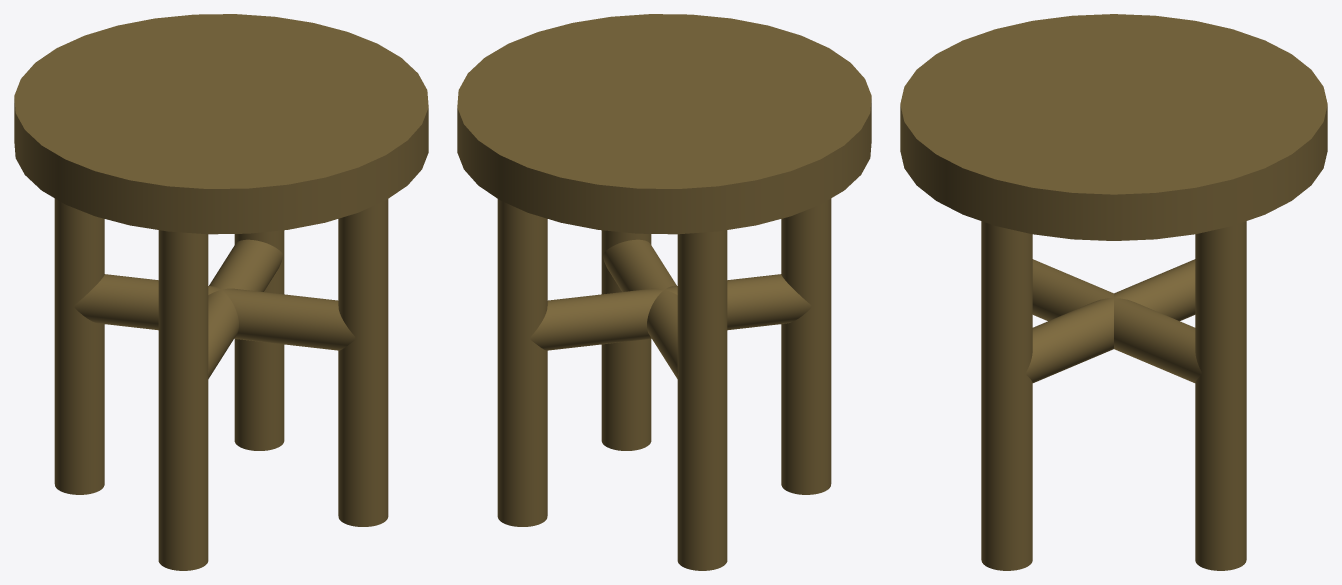
The model's file is stool.fbx.
3 views of the same model, side by side, from view 1: azimuth 30°, elevation 25°; view 2: azimuth 150°, elevation 25°; view 3: azimuth 270°, elevation 25° (orthographic). The views are drawn at different scales.
Visible parts, largest first — view 1: Cylinder.004; view 2: Cylinder.004; view 3: Cylinder.004.
Part boxes in pixels (x1=…): Cylinder.004: x1=14, y1=14, x2=428, y2=570; Cylinder.004: x1=457, y1=14, x2=871, y2=570; Cylinder.004: x1=900, y1=14, x2=1327, y2=570.
Bounding box in the file's own units: 100 × 106 × 100.
